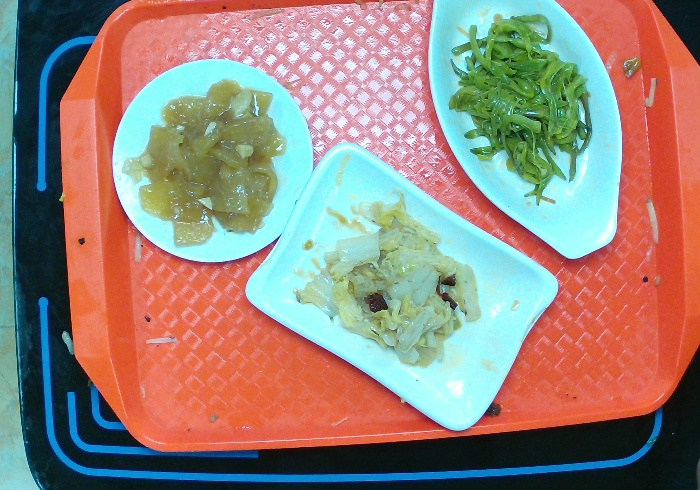RJxy-Si_Fang_Ao_Bian_Wan: (245, 146, 556, 430)
RJxy-Xiao_Yuan_Die: (108, 58, 315, 263)
RJxy-Yu_Pan: (425, 1, 627, 260)
